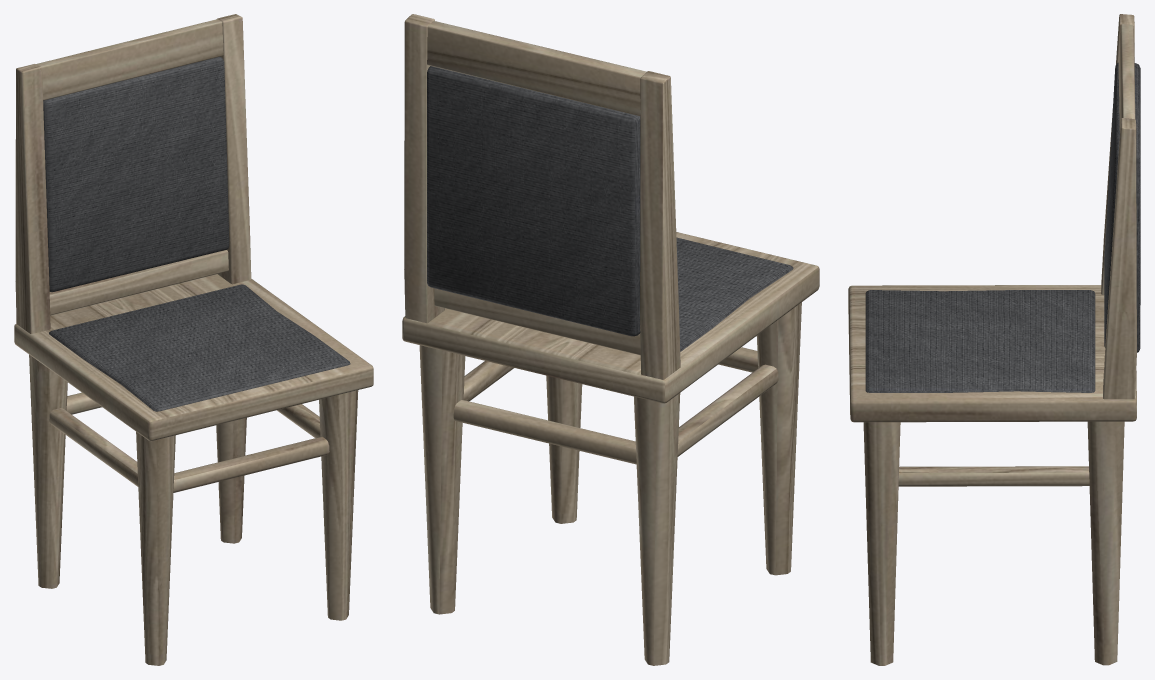
The picture shows the model from 3 angles, left to right: view 1: azimuth 30°, elevation 25°; view 2: azimuth 150°, elevation 25°; view 3: azimuth 270°, elevation 25°; orthographic projection. The views are drawn at different scales.
Parts seen in each view (by area): view 1: Object_2; view 2: Object_2; view 3: Object_2.
Part boxes in pixels (x1,y1,x2,y2): Object_2: (14,14,373,665); Object_2: (402,14,819,665); Object_2: (848,14,1140,665).
Size of the model in its own units: 2.18 by 4.68 by 2.29.
Materials: 1 (1 with a texture image).
